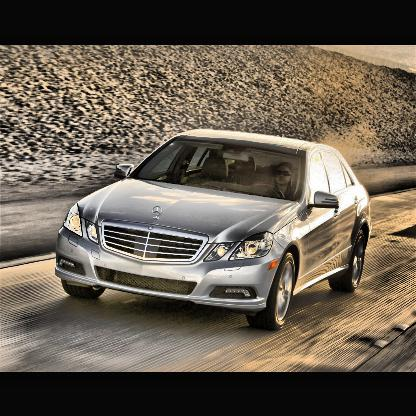Mercedes-Benz E-Class Sedan 2012: (53, 128, 375, 333)
